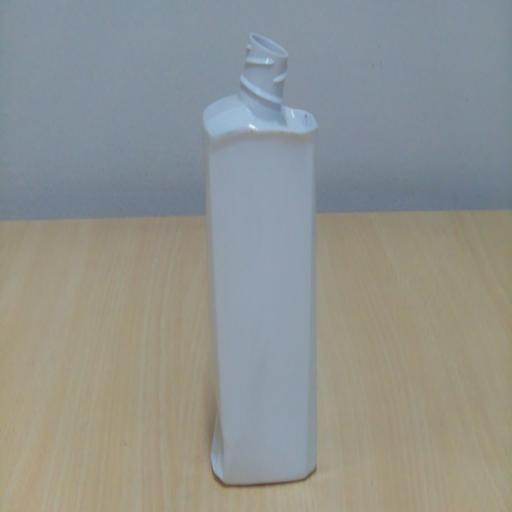Bad: (189, 20, 333, 495)
